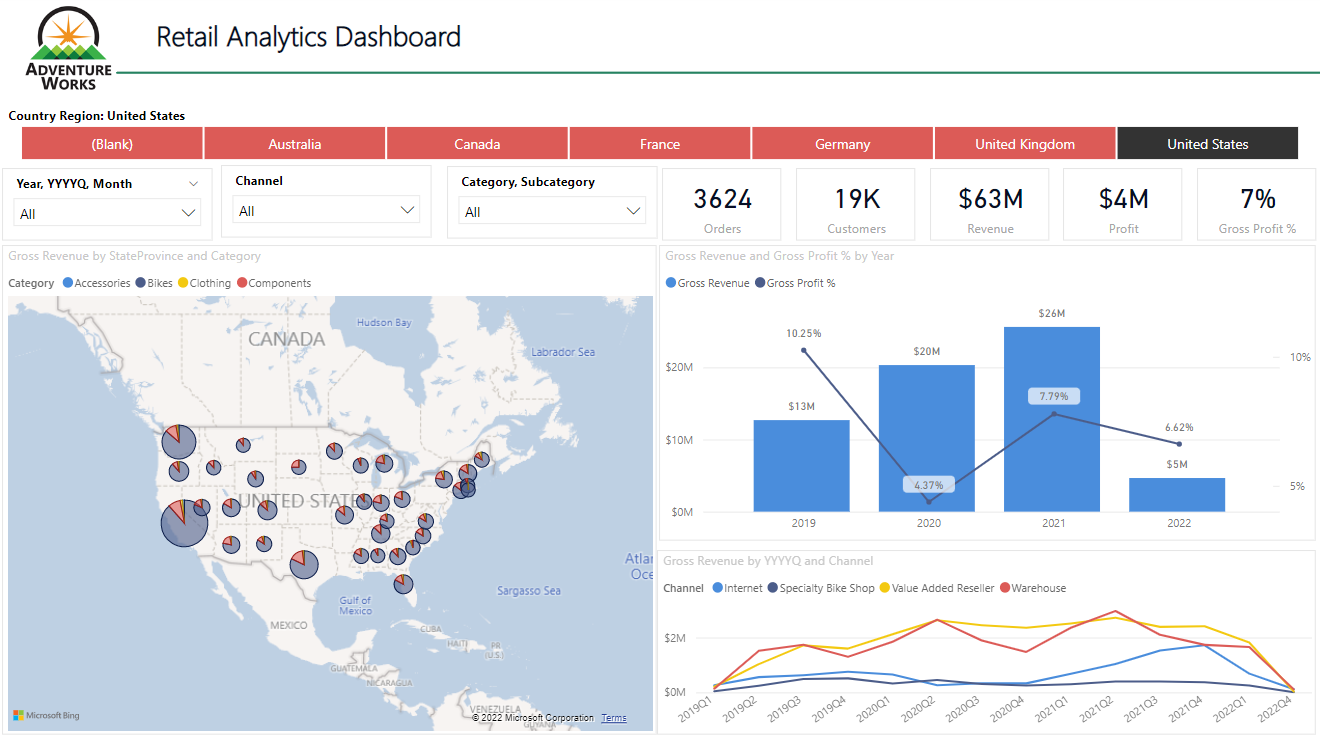

The dashboard page shown, as its layout file describes it:
{"tool":"powerbi","page":{"name":"Dashboard","canvas":[1280,720],"ordinal":1},"visuals":[{"type":"map","fields":{"Category":["DimGeography.StateProvince"],"Size":["FactSales.GrossRevenue"],"Series":["DimProduct.Category"]},"box":[7.2,240.9,631.3,471.9],"z":0},{"type":"shape","box":[116.6,69.4,1163.4,10.6],"z":1000},{"type":"image","box":[6.7,0,128.2,102.2],"z":2000},{"type":"textbox","box":[150.4,15.2,1129.3,53.7],"z":3000},{"type":"slicer","fields":{"Values":["DimGeography.CountryRegion"]},"box":[0,102.2,1280,62.7],"z":4000},{"type":"slicer","fields":{"Values":["DimChannel.ChannelCategory Hierarchy.ChannelCategory","DimChannel.ChannelCategory Hierarchy.Channel"]},"box":[217.6,163.9,203.3,70],"z":5000},{"type":"lineClusteredColumnComboChart","fields":{"Category":["DimDate.Date Hierarchy.Year","DimDate.Date Hierarchy.YYYYQ","DimDate.Date Hierarchy.Month"],"Y":["FactSales.GrossRevenue"],"Y2":["FactSales.Gross Profit Margin"]},"box":[640.3,240.9,633.1,284.8],"z":6000},{"type":"lineChart","fields":{"Series":["DimChannel.Channel"],"Category":["DimDate.Year Hierarchy.Year","DimDate.Year Hierarchy.YYYYQ","DimDate.Year Hierarchy.Month"],"Y":["FactSales.GrossRevenue"]},"box":[638.5,534.6,634.9,178.2],"z":7000},{"type":"slicer","fields":{"Values":["DimProduct.Product Hierarchy.Category","DimProduct.Product Hierarchy.Subcategory"]},"box":[435.2,164.8,203.3,69.9],"z":8000},{"type":"card","fields":{"Values":["Count(FactSales.SalesOrder)"]},"box":[643,166.6,114.6,70],"z":9000},{"type":"card","fields":{"Values":["Sum(FactSales.SalesAmount)"]},"box":[900.9,166.6,114.6,70],"z":10000},{"type":"card","fields":{"Values":["Count(DimCustomer.Customer)"]},"box":[771.9,166.6,114.6,70],"z":11000},{"type":"card","fields":{"Values":["FactSales.Gross Profit"]},"box":[1029.9,166.6,114.6,70],"z":12000},{"type":"slicer","fields":{"Values":["DimDate.Date Hierarchy.Year","DimDate.Date Hierarchy.YYYYQ","DimDate.Date Hierarchy.Month"]},"box":[7.2,166.6,203.3,70],"z":13000},{"type":"card","fields":{"Values":["FactSales.Profit Margin"]},"box":[1158.8,166.6,114.6,70],"z":14000}]}

Visuals, with their boxes in screenshot pixels (x1, y1, x2, y2), scaled from the page's 1280x720 canvas onto the 1320x737 screenshot:
map - DimGeography.StateProvince x FactSales.GrossRevenue: {"left": 7, "top": 247, "right": 658, "bottom": 730}
shape: {"left": 120, "top": 71, "right": 1319, "bottom": 82}
image: {"left": 7, "top": 0, "right": 139, "bottom": 105}
textbox: {"left": 155, "top": 16, "right": 1319, "bottom": 71}
slicer - DimGeography.CountryRegion: {"left": 0, "top": 105, "right": 1319, "bottom": 169}
slicer - DimChannel.ChannelCategory Hierarchy.ChannelCategory x DimChannel.ChannelCategory Hierarchy.Channel: {"left": 224, "top": 168, "right": 434, "bottom": 239}
lineClusteredColumnComboChart - DimDate.Date Hierarchy.Year x DimDate.Date Hierarchy.YYYYQ: {"left": 660, "top": 247, "right": 1313, "bottom": 538}
lineChart - DimChannel.Channel x DimDate.Year Hierarchy.Year: {"left": 658, "top": 547, "right": 1313, "bottom": 730}
slicer - DimProduct.Product Hierarchy.Category x DimProduct.Product Hierarchy.Subcategory: {"left": 449, "top": 169, "right": 658, "bottom": 240}
card - Count(FactSales.SalesOrder): {"left": 663, "top": 171, "right": 781, "bottom": 242}
card - Sum(FactSales.SalesAmount): {"left": 929, "top": 171, "right": 1047, "bottom": 242}
card - Count(DimCustomer.Customer): {"left": 796, "top": 171, "right": 914, "bottom": 242}
card - FactSales.Gross Profit: {"left": 1062, "top": 171, "right": 1180, "bottom": 242}
slicer - DimDate.Date Hierarchy.Year x DimDate.Date Hierarchy.YYYYQ: {"left": 7, "top": 171, "right": 217, "bottom": 242}
card - FactSales.Profit Margin: {"left": 1195, "top": 171, "right": 1313, "bottom": 242}
